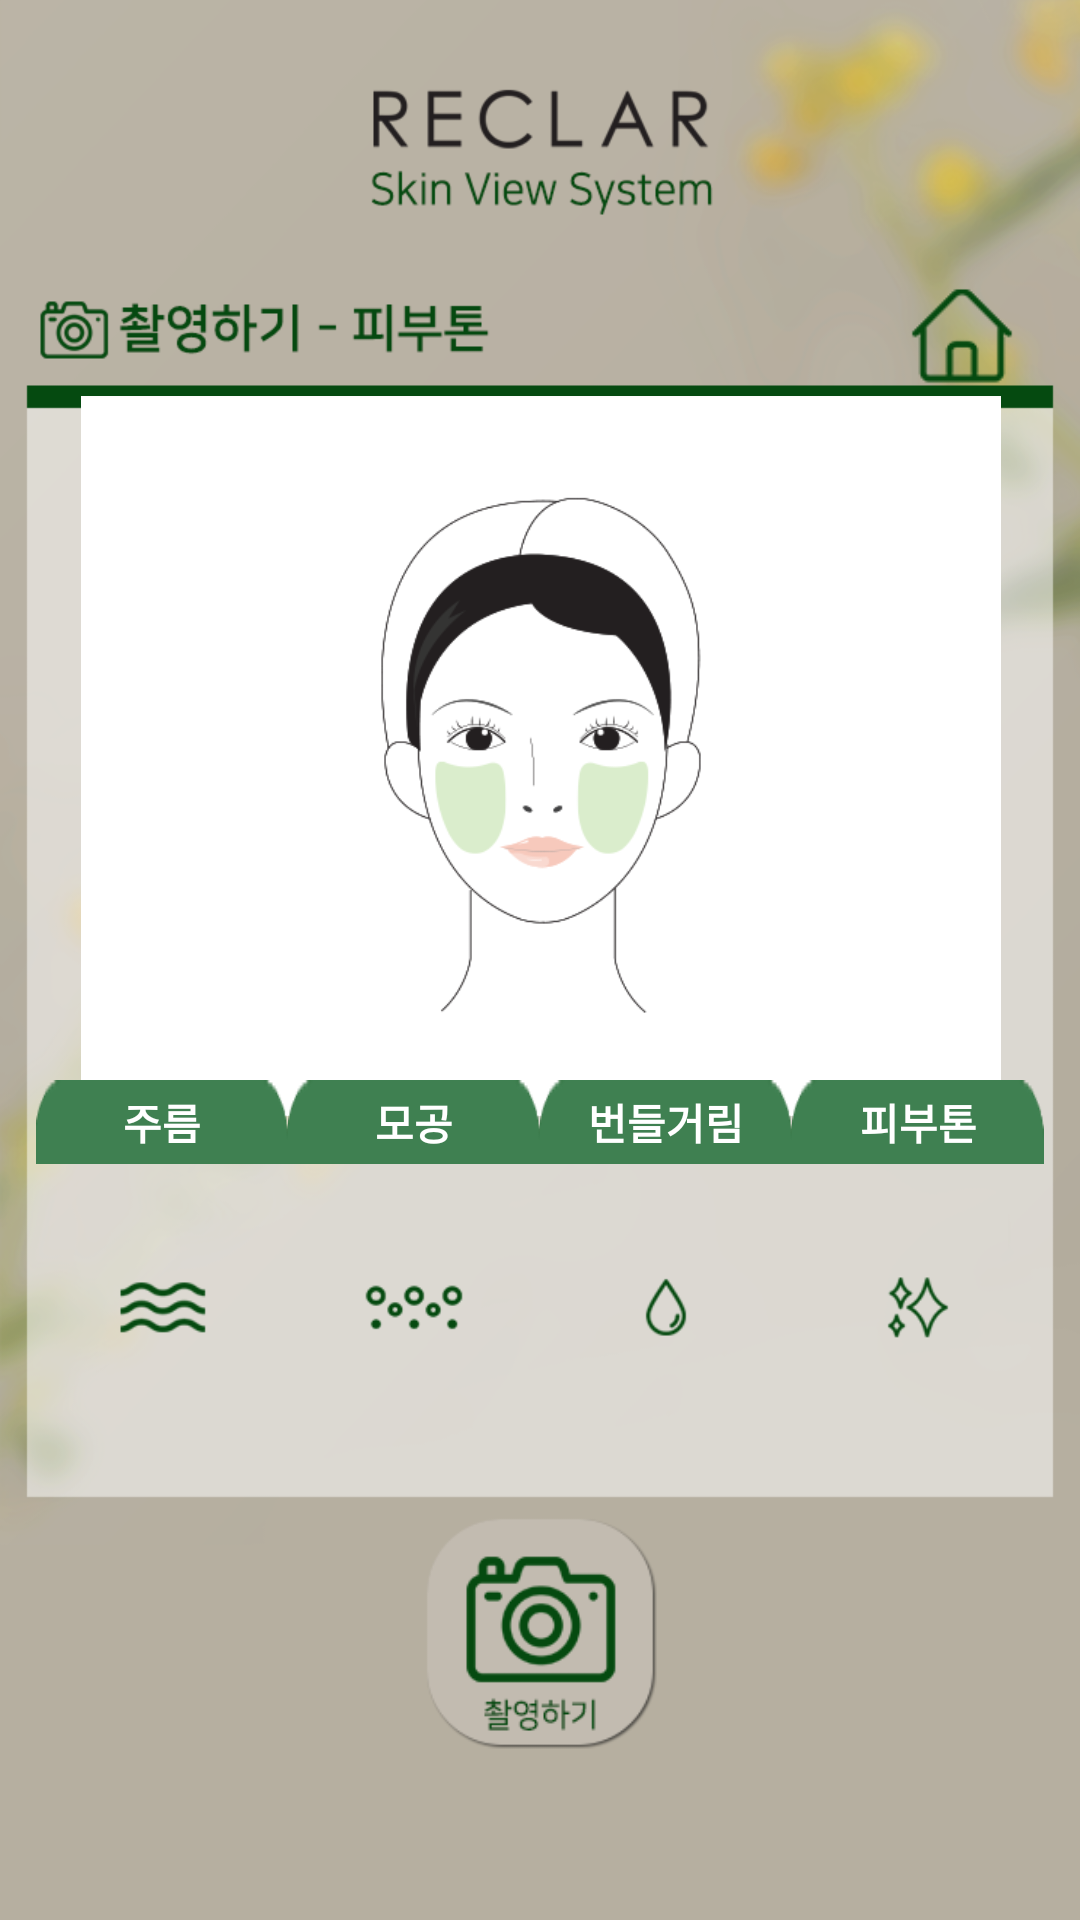

Locate icon controls on the screen. Image size 1080 × 1920, boxes as bbox=[x1, y1, x2, y2].
home: bbox=[902, 275, 1022, 395]
oily: bbox=[645, 1279, 687, 1336]
pore: bbox=[365, 1285, 463, 1329]
tone: bbox=[888, 1277, 948, 1338]
wrinkle: bbox=[120, 1282, 206, 1333]
